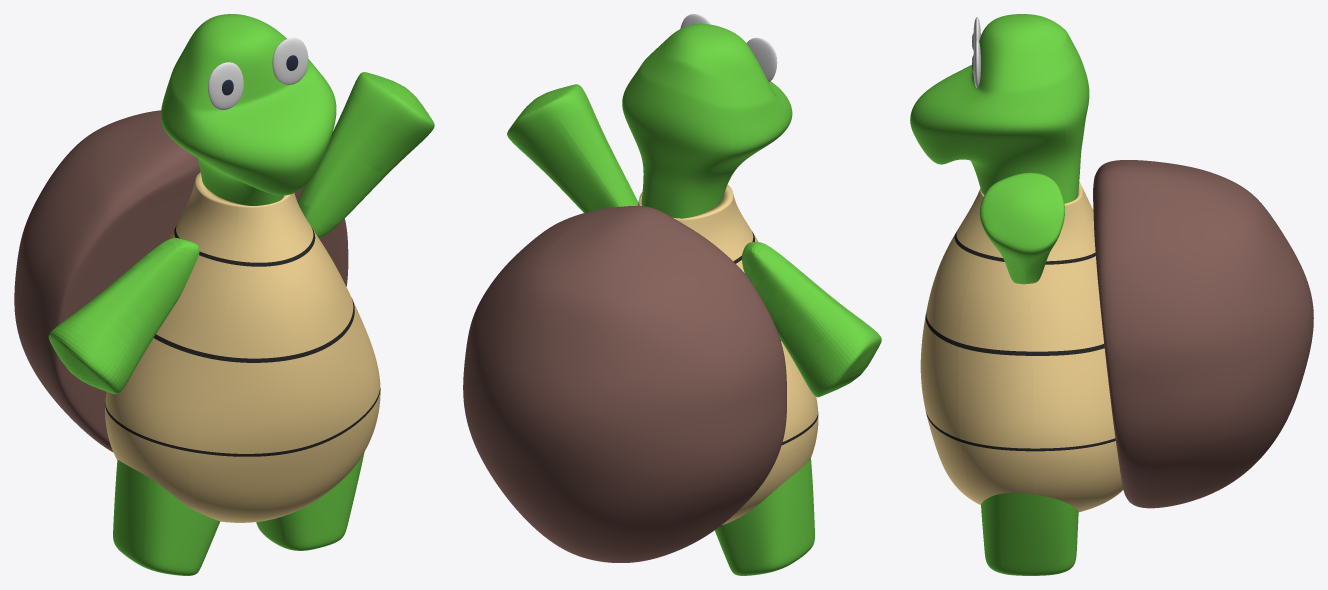
The model's file is asset.glb.
3 renders of one model, left to right at view 1: azimuth 30°, elevation 25°; view 2: azimuth 150°, elevation 25°; view 3: azimuth 270°, elevation 25°, orthographic. The views are drawn at different scales.
Visible parts, largest first — view 1: Cube.001, Cube.002, Cube, Cube.008, Cube.004, Cube.003, Cube.007, Cube.009, Cube.005; view 2: Cube.002, Cube, Cube.008, Cube.004, Cube.003, Cube.001, Cube.009; view 3: Cube.002, Cube.001, Cube, Cube.007, Cube.004.
Part boxes in pixels (x1=…): Cube.001: x1=105, y1=172, x2=380, y2=522; Cube.002: x1=14, y1=110, x2=348, y2=451; Cube: x1=160, y1=14, x2=336, y2=205; Cube.008: x1=48, y1=238, x2=199, y2=394; Cube.004: x1=298, y1=72, x2=434, y2=237; Cube.003: x1=113, y1=460, x2=219, y2=575; Cube.007: x1=256, y1=452, x2=364, y2=550; Cube.009: x1=208, y1=62, x2=243, y2=109; Cube.005: x1=272, y1=37, x2=308, y2=84; Cube.002: x1=463, y1=206, x2=786, y2=562; Cube: x1=622, y1=23, x2=792, y2=218; Cube.008: x1=742, y1=242, x2=881, y2=397; Cube.004: x1=507, y1=84, x2=638, y2=212; Cube.003: x1=714, y1=458, x2=814, y2=575; Cube.001: x1=637, y1=184, x2=818, y2=524; Cube.009: x1=746, y1=37, x2=777, y2=81; Cube.002: x1=1093, y1=160, x2=1313, y2=508; Cube.001: x1=920, y1=182, x2=1123, y2=512; Cube: x1=910, y1=14, x2=1089, y2=203; Cube.007: x1=981, y1=492, x2=1078, y2=575; Cube.004: x1=979, y1=172, x2=1064, y2=284.
Bounding box in the file's own units: 13.78 × 19.2 × 13.67.
